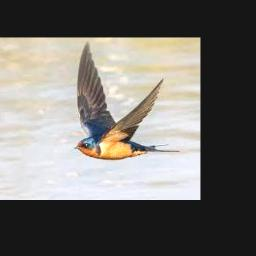Swallow: (73, 41, 180, 159)
